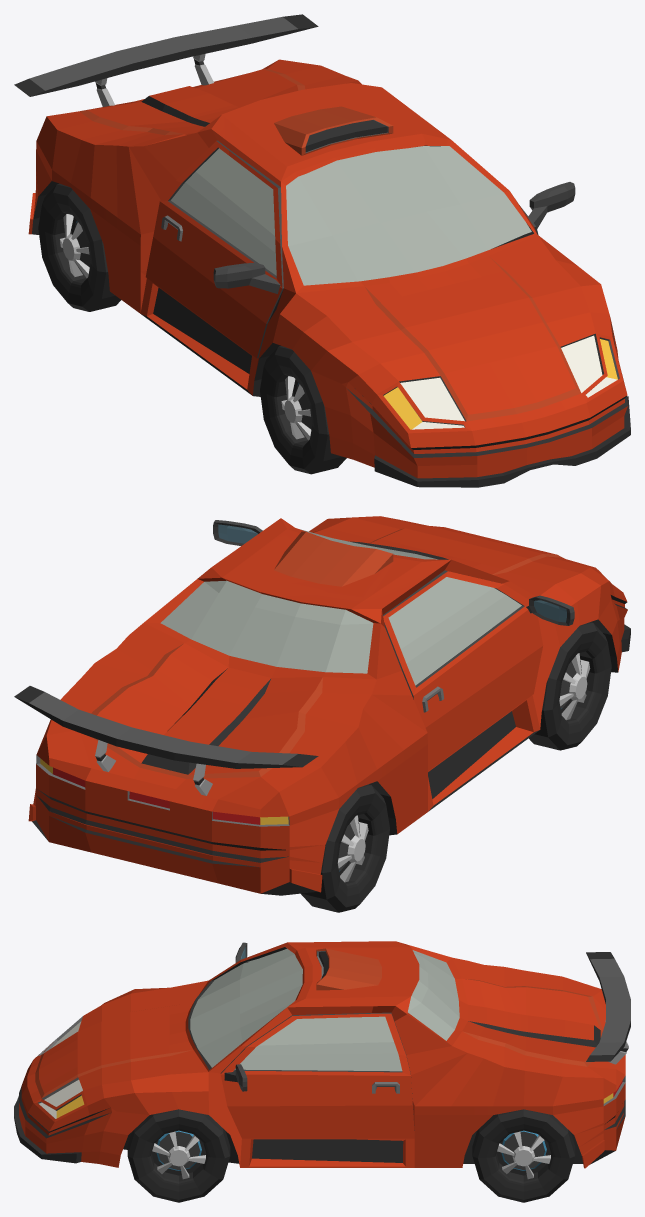
Rendered from Car-Sport_02.fbx.
The picture shows the model from 3 angles, top to bottom: view 1: azimuth 30°, elevation 25°; view 2: azimuth 150°, elevation 25°; view 3: azimuth 270°, elevation 25°; orthographic projection. The views are drawn at different scales.
Visible parts, largest first — view 1: Car-Sport_02, CAr-Sport_02.002, Wheel_Big_FrontL.013, Wheel_Big_FrontL.011, CAr-Sport_02.001; view 2: Car-Sport_02, CAr-Sport_02.002, Wheel_Big_FrontL.013, Wheel_Big_FrontL.011, CAr-Sport_02.001; view 3: Car-Sport_02, CAr-Sport_02.001, Wheel_Big_FrontL.014, Wheel_Big_FrontL.012.
Part boxes in pixels (x1,y1,x2,y2): Car-Sport_02: (14, 14, 630, 487); CAr-Sport_02.002: (145, 140, 283, 358); Wheel_Big_FrontL.013: (260, 346, 346, 474); Wheel_Big_FrontL.011: (38, 183, 120, 311); CAr-Sport_02.001: (519, 182, 575, 234); Car-Sport_02: (14, 516, 630, 895); CAr-Sport_02.002: (383, 570, 574, 771); Wheel_Big_FrontL.013: (529, 622, 611, 750); Wheel_Big_FrontL.011: (301, 784, 389, 912); CAr-Sport_02.001: (213, 520, 262, 545); Car-Sport_02: (14, 941, 630, 1168); CAr-Sport_02.001: (220, 1012, 414, 1138); Wheel_Big_FrontL.014: (127, 1109, 230, 1202); Wheel_Big_FrontL.012: (472, 1109, 575, 1202).
Size of the model in its own units: 301 by 193 by 575.
